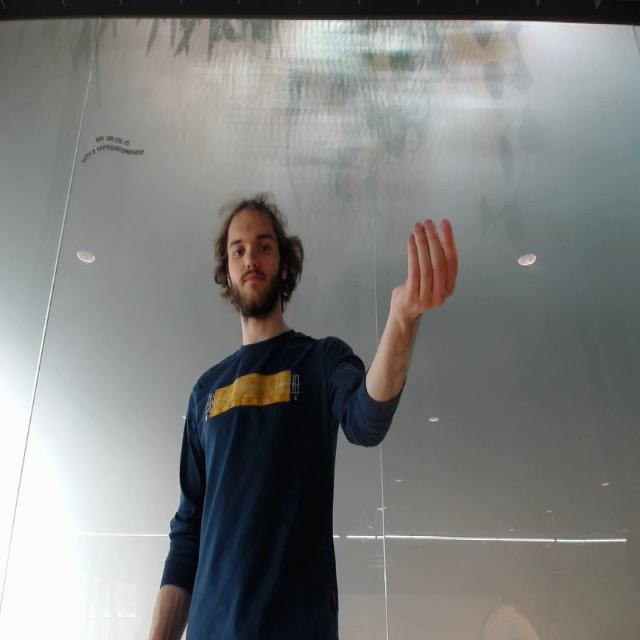forward: (392, 212, 464, 319)
